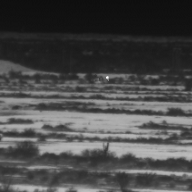Target: (105, 75, 110, 80)
